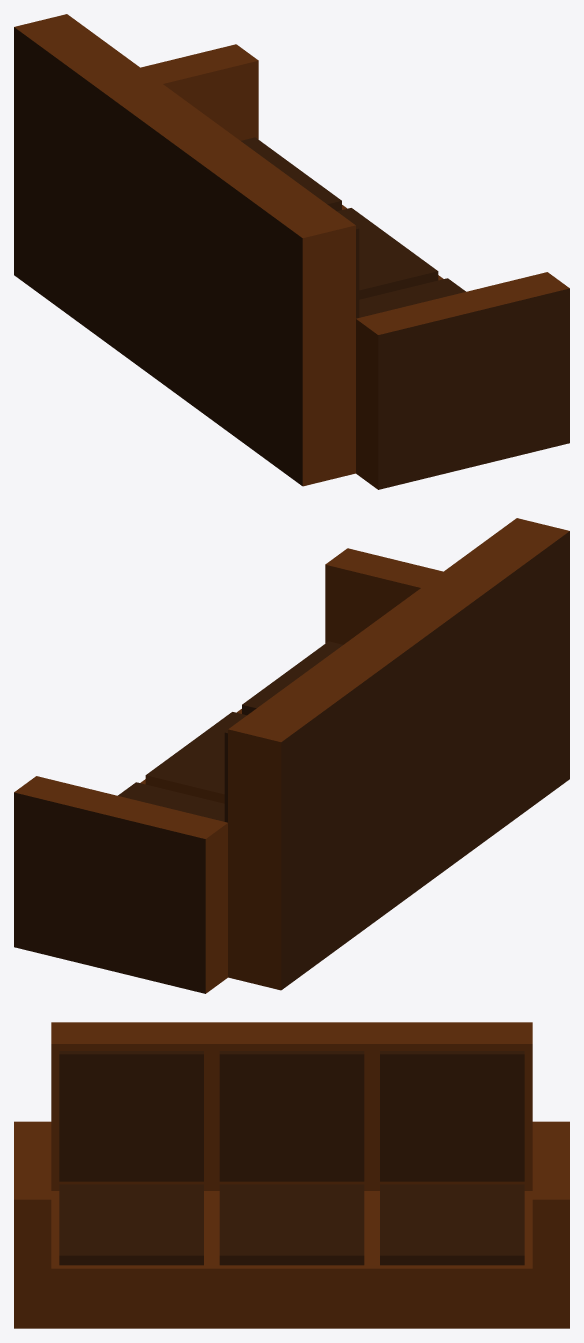
Rendered from Triple_Seater_Sofa.FBX.
3 views of the same model, one above another, from view 1: azimuth 30°, elevation 25°; view 2: azimuth 150°, elevation 25°; view 3: azimuth 270°, elevation 25° (orthographic). The views are drawn at different scales.
Visible parts, largest first — view 1: sofa 3 seat; view 2: sofa 3 seat; view 3: sofa 3 seat.
Part boxes in pixels (box(x1,y1,x2,y2)): sofa 3 seat: box(14, 14, 569, 489); sofa 3 seat: box(14, 518, 569, 993); sofa 3 seat: box(14, 1022, 569, 1328).
Size of the model in its own units: 0.8897 by 0.8619 by 2.1.
